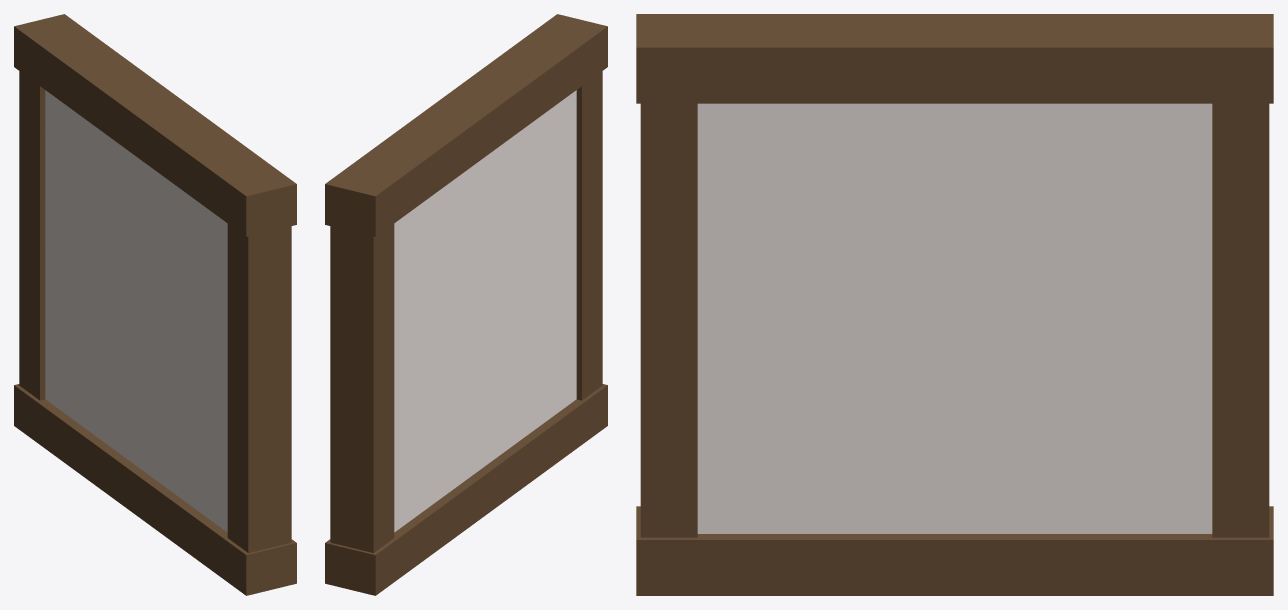
Rendered from Wall01.fbx.
The picture shows the model from 3 angles, left to right: view 1: azimuth 30°, elevation 25°; view 2: azimuth 150°, elevation 25°; view 3: azimuth 270°, elevation 25°; orthographic projection. The views are drawn at different scales.
Parts seen in each view (by area): view 1: Wall_04; view 2: Wall_04; view 3: Wall_04.
Part boxes in pixels (box(x1,y1,x2,y2)): Wall_04: box(14, 14, 296, 595); Wall_04: box(325, 14, 607, 595); Wall_04: box(636, 14, 1273, 595).
Size of the model in its own units: 28 by 212 by 223.
